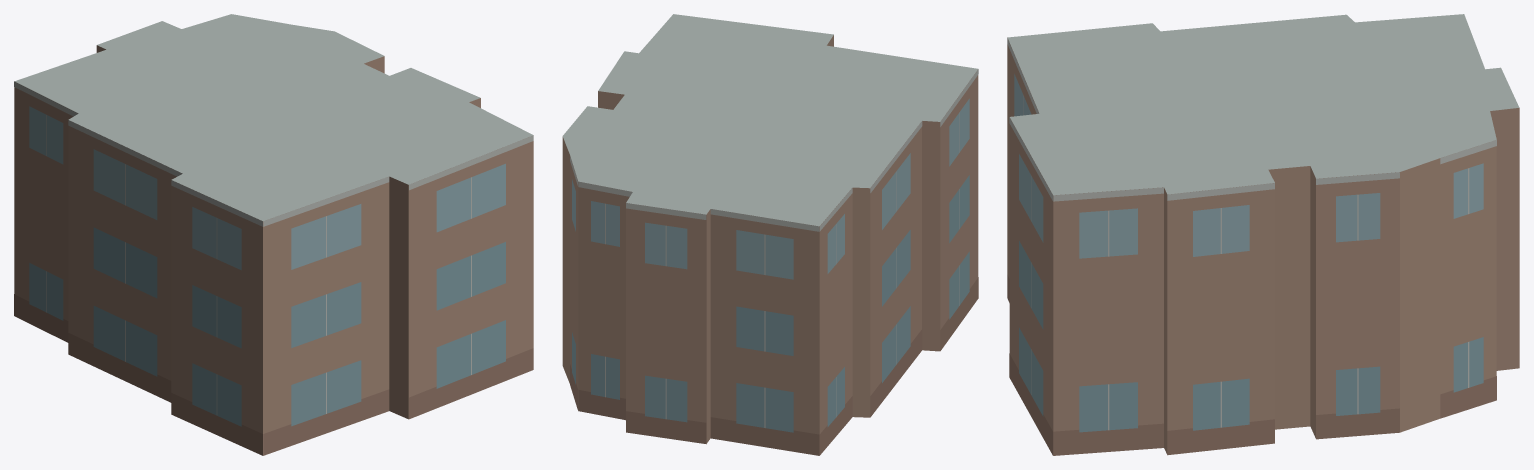
Rendered from survey-upis-32682073.glb.
The picture shows the model from 3 angles, left to right: view 1: azimuth 30°, elevation 25°; view 2: azimuth 150°, elevation 25°; view 3: azimuth 270°, elevation 25°; orthographic projection. The views are drawn at different scales.
Visible parts, largest first — view 1: survey-upis-32682073.tmp; view 2: survey-upis-32682073.tmp; view 3: survey-upis-32682073.tmp.
Boxes of the visible parts, left/top/right/bottom form: survey-upis-32682073.tmp: left=14, top=14, right=533, bottom=455; survey-upis-32682073.tmp: left=562, top=14, right=978, bottom=455; survey-upis-32682073.tmp: left=1007, top=14, right=1519, bottom=455.
Bounding box in the file's own units: 15.08 × 10.1 × 18.
